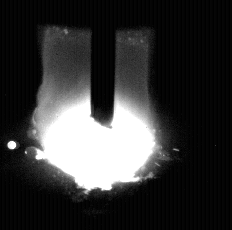arame: (91, 0, 117, 129)
poca: (41, 0, 155, 230)
